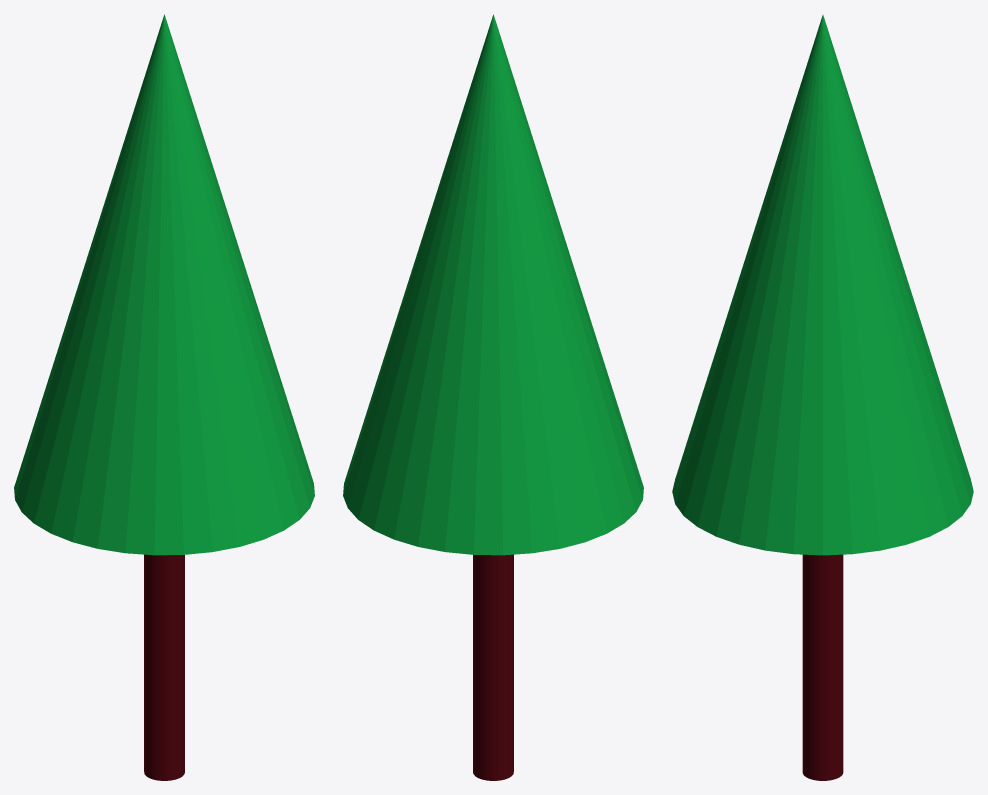
Rendered from Tree.fbx.
3 views of the same model, side by side, from view 1: azimuth 30°, elevation 25°; view 2: azimuth 150°, elevation 25°; view 3: azimuth 270°, elevation 25° (orthographic).
Parts seen in each view (by area): view 1: 円錐, 円柱; view 2: 円錐, 円柱; view 3: 円錐, 円柱.
Boxes of the visible parts, x1,y1,x2,y2 form: 円錐: (14,14,314,555); 円柱: (144,554,184,780); 円錐: (343,14,643,555); 円柱: (473,554,513,780); 円錐: (672,15,973,555); 円柱: (802,554,843,780).
Size of the model in its own units: 390 by 1082 by 390.
